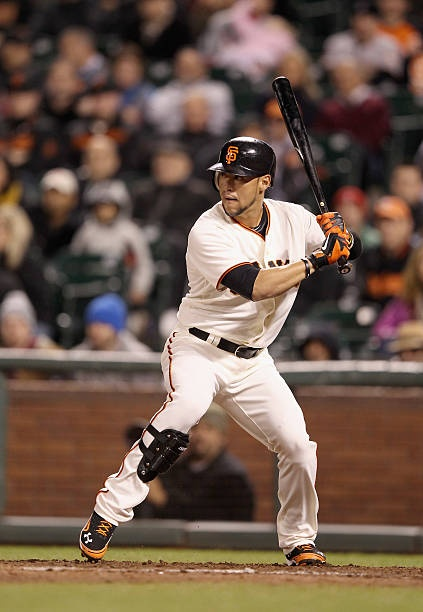bita: (274, 77, 357, 278)
